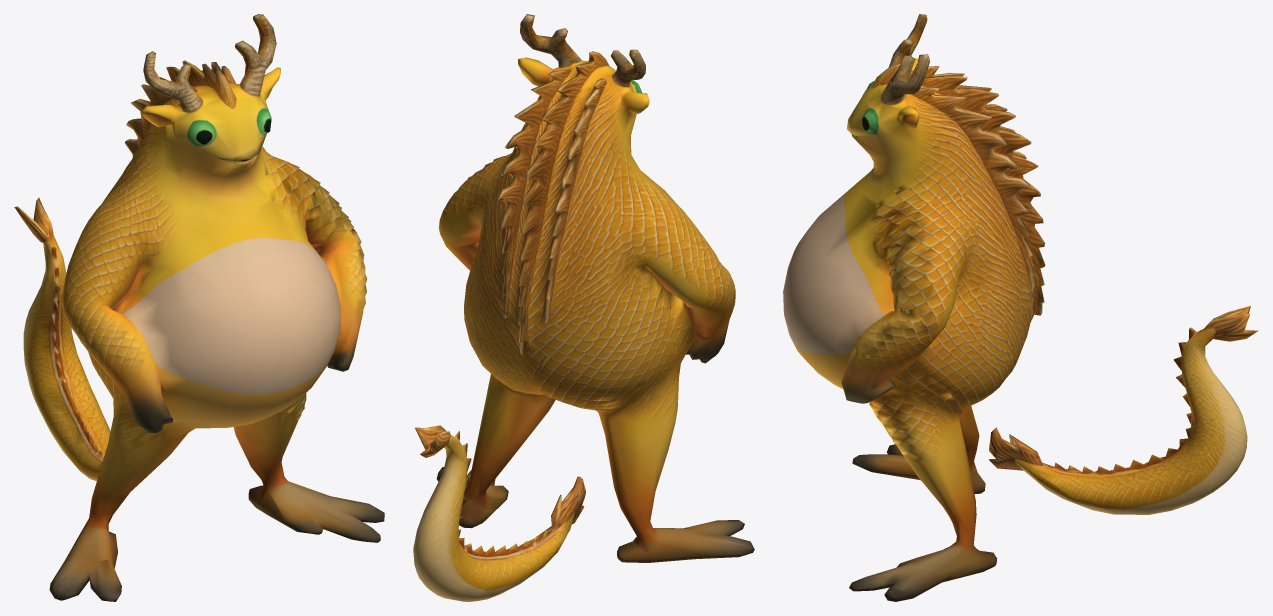
3 views of the same model, side by side, from view 1: azimuth 30°, elevation 25°; view 2: azimuth 150°, elevation 25°; view 3: azimuth 270°, elevation 25° (orthographic). The views are drawn at different scales.
Visible parts, largest first — view 1: tripo_node_cdca1d13; view 2: tripo_node_cdca1d13; view 3: tripo_node_cdca1d13.
Boxes of the visible parts, x1,y1,x2,y2 form: tripo_node_cdca1d13: (14,14,384,601); tripo_node_cdca1d13: (413,14,754,601); tripo_node_cdca1d13: (783,14,1258,601).
Bounding box in the file's own units: 0.6614 × 0.9996 × 0.8645.
Materials: 1 (1 with a texture image).
